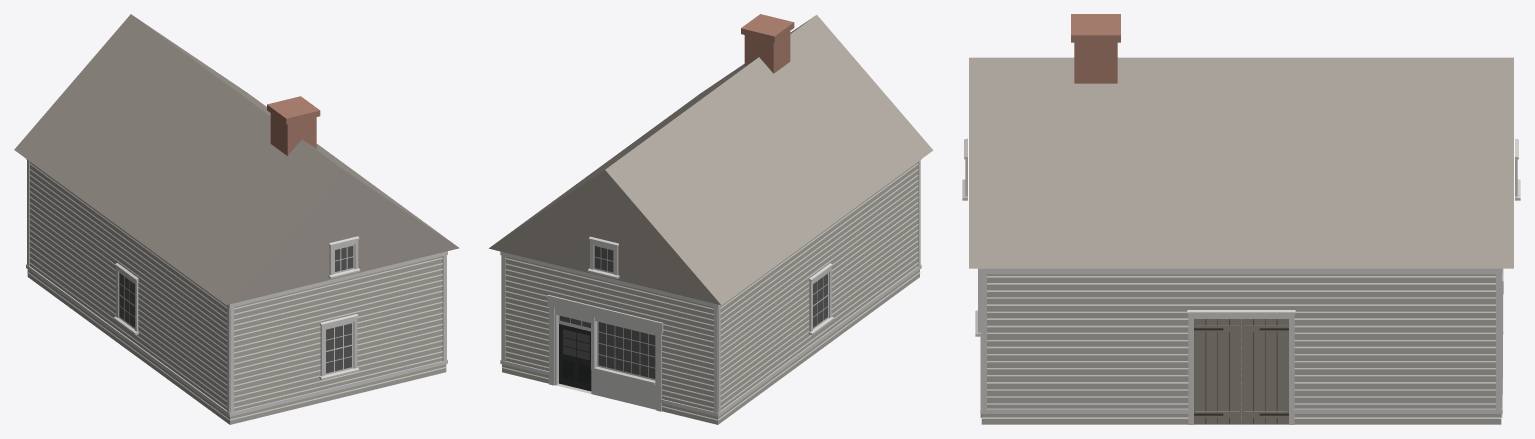
Rendered from recon_1835_core_c2_055__inferred_1835.glb.
3 views of the same model, side by side, from view 1: azimuth 30°, elevation 25°; view 2: azimuth 150°, elevation 25°; view 3: azimuth 270°, elevation 25° (orthographic). The views are drawn at different scales.
Parts seen in each view (by area): view 1: recon_1835_core_c2_055__inferred_1835; view 2: recon_1835_core_c2_055__inferred_1835; view 3: recon_1835_core_c2_055__inferred_1835.
Part boxes in pixels (<box>): recon_1835_core_c2_055__inferred_1835: <box>14,14,459,424</box>; recon_1835_core_c2_055__inferred_1835: <box>489,14,933,424</box>; recon_1835_core_c2_055__inferred_1835: <box>962,14,1520,424</box>.
Bounding box in the file's own units: 6.76 × 7.15 × 10.88.
